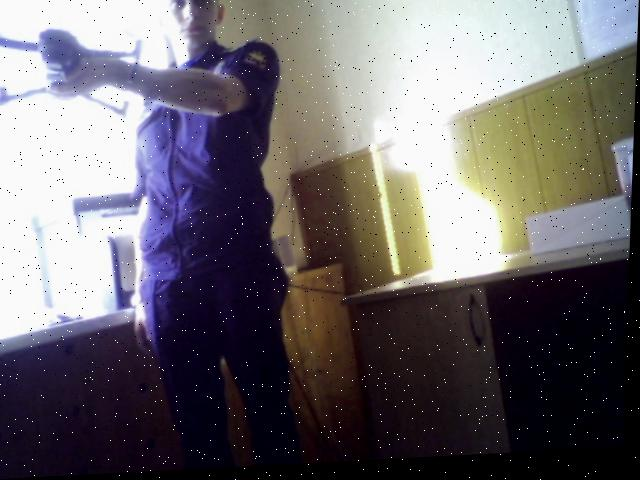drone: (0, 12, 157, 120)
